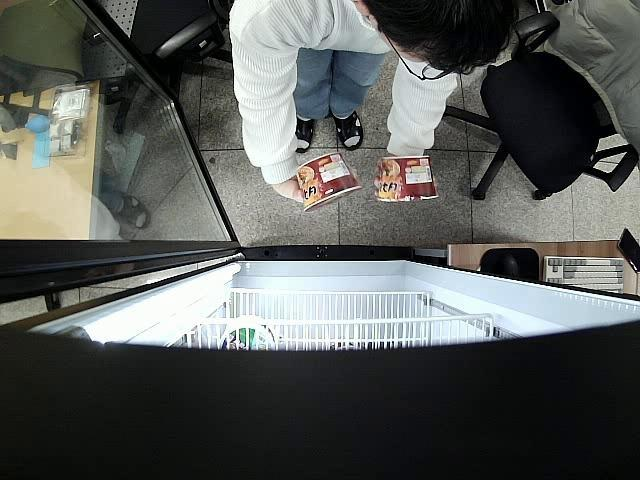05_nuguri_L: (297, 150, 363, 214), (374, 156, 438, 204)
